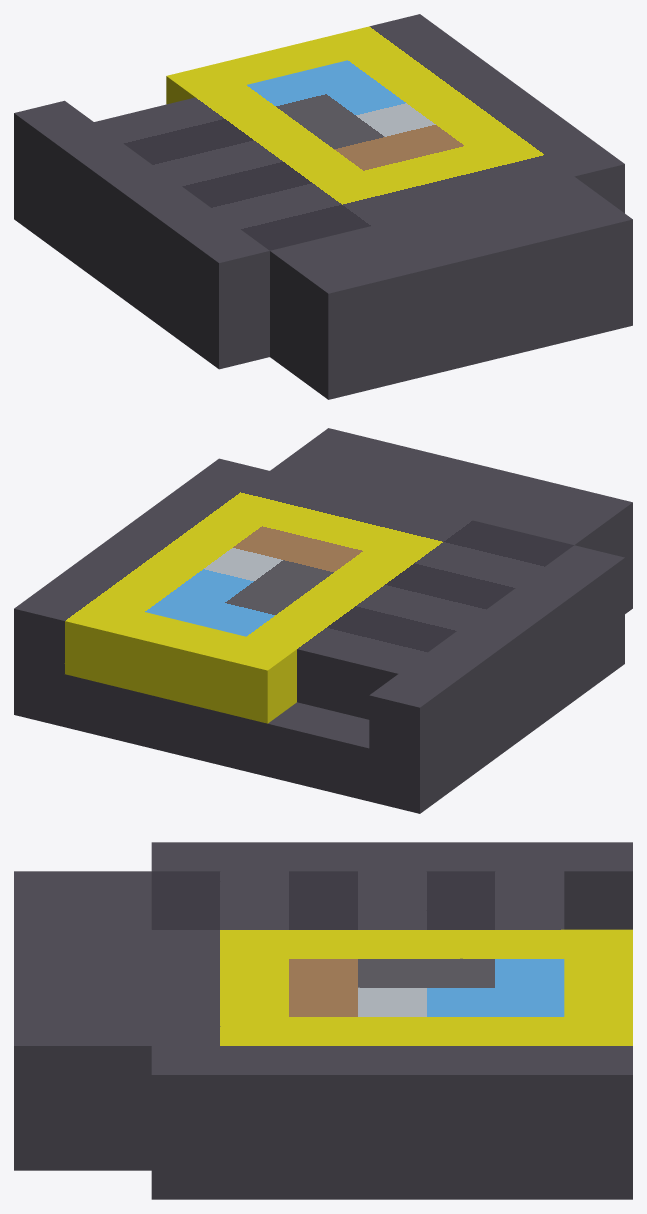
The model's file is cart02.fbx.
3 views of the same model, one above another, from view 1: azimuth 30°, elevation 25°; view 2: azimuth 150°, elevation 25°; view 3: azimuth 270°, elevation 25° (orthographic). The views are drawn at different scales.
Visible parts, largest first — view 1: cart02; view 2: cart02; view 3: cart02.
Boxes of the visible parts, left/top/right/bottom form: cart02: left=14, top=14, right=632, bottom=399; cart02: left=14, top=428, right=632, bottom=813; cart02: left=14, top=842, right=632, bottom=1199.
Bounding box in the file's own units: 8 × 2 × 9.
